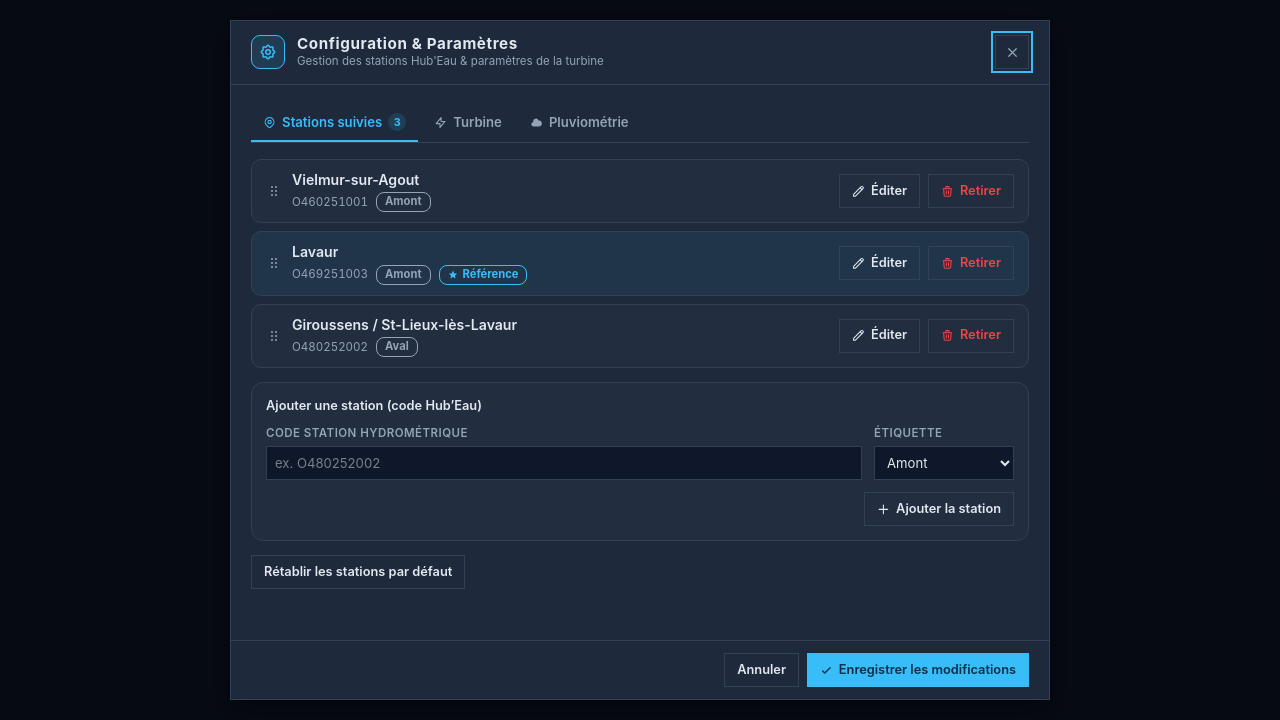
Test: ConfigModal › bloque l’enregistrement sur une configuration de turbine invalide
Click the button "Enregistrer les modifications". click: [918, 670]
box: [807,653,1029,687]
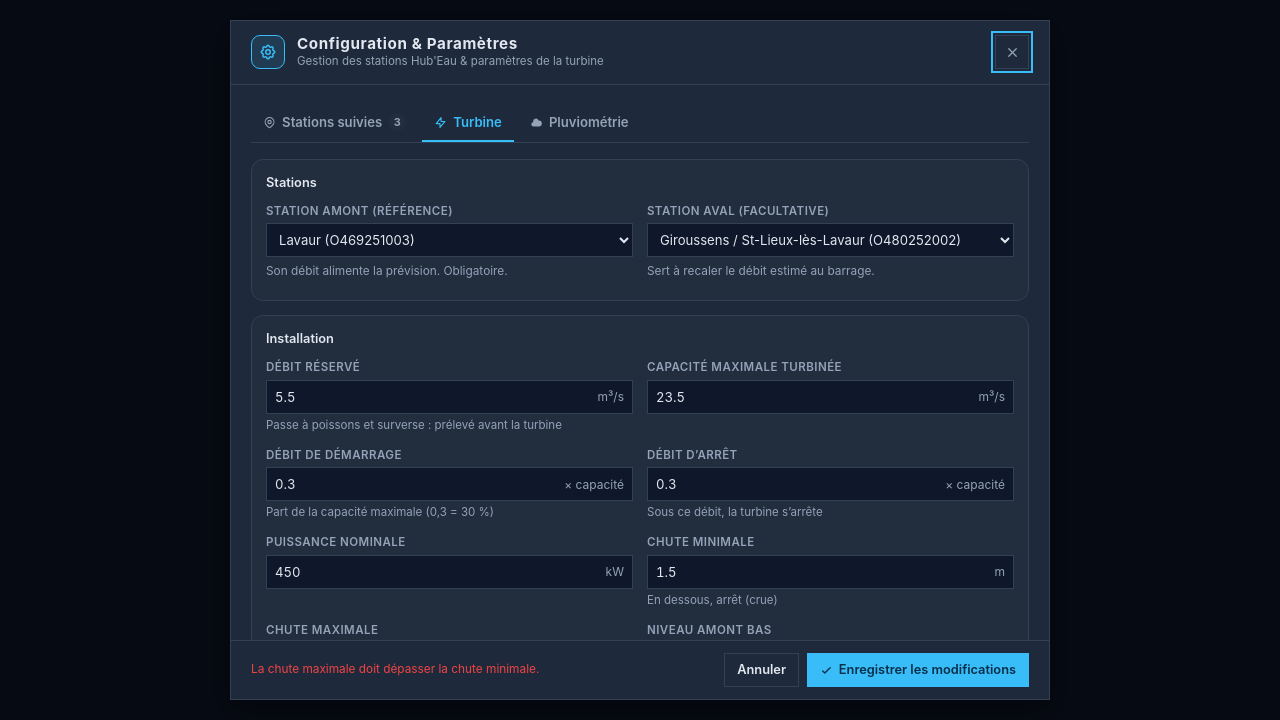
Expected: the message with class "cfg-foot__error" shows "chute maximale", [251,662,539,676]
